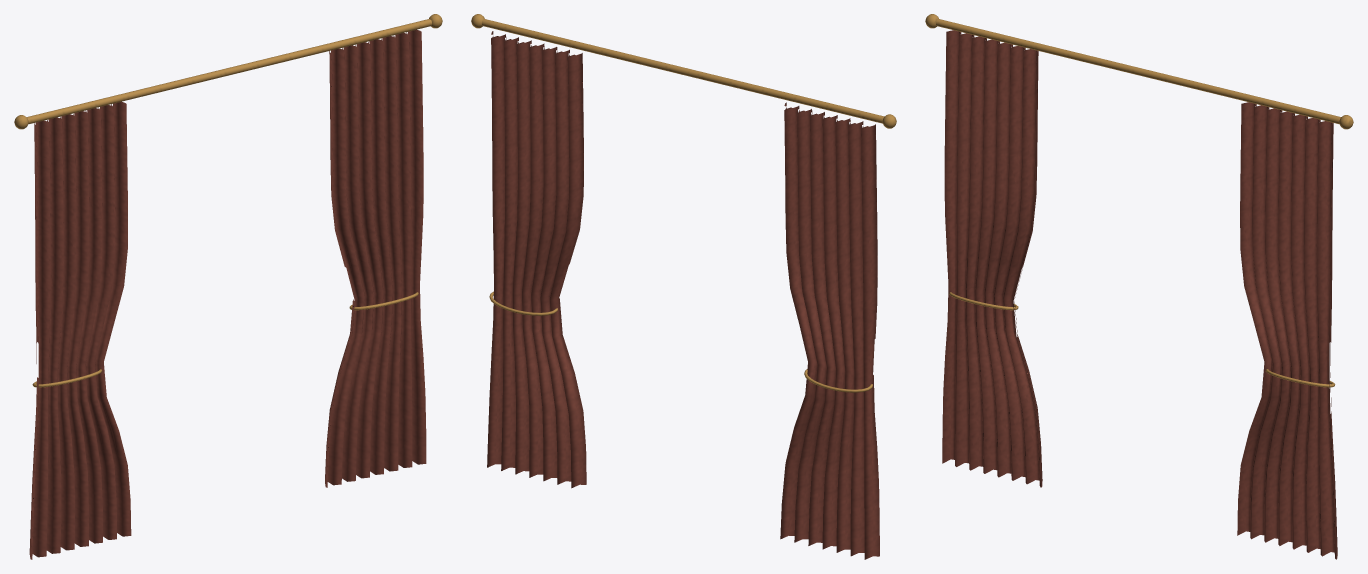
File: curtain_pair.glb
The picture shows the model from 3 angles, left to right: view 1: azimuth 30°, elevation 25°; view 2: azimuth 150°, elevation 25°; view 3: azimuth 330°, elevation 25°; orthographic projection.
Visible parts, largest first — view 1: CurtainRight, CurtainLeft, CurtainRod; view 2: CurtainLeft, CurtainRight, CurtainRod; view 3: CurtainLeft, CurtainRight, CurtainRod.
Part boxes in pixels (bbox=[...]): CurtainRight: bbox=[325, 29, 426, 487]; CurtainLeft: bbox=[29, 101, 131, 559]; CurtainRod: bbox=[26, 19, 431, 124]; CurtainLeft: bbox=[780, 102, 879, 559]; CurtainRight: bbox=[487, 31, 586, 488]; CurtainRod: bbox=[482, 19, 884, 123]; CurtainLeft: bbox=[942, 30, 1042, 487]; CurtainRight: bbox=[1237, 102, 1337, 559]; CurtainRod: bbox=[936, 19, 1340, 124].
Bounding box in the file's own units: 2.37 × 2.38 × 0.1634.
2 materials, 2 textured.
